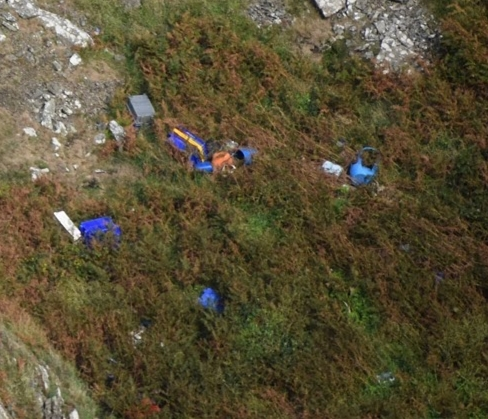scattered_barrel: (46, 88, 391, 322)
